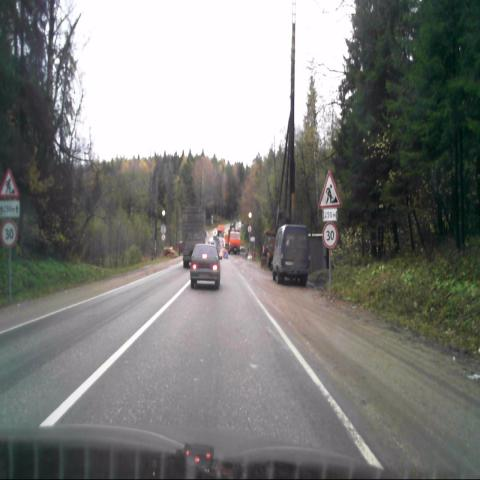1_25: (0, 169, 19, 197)
